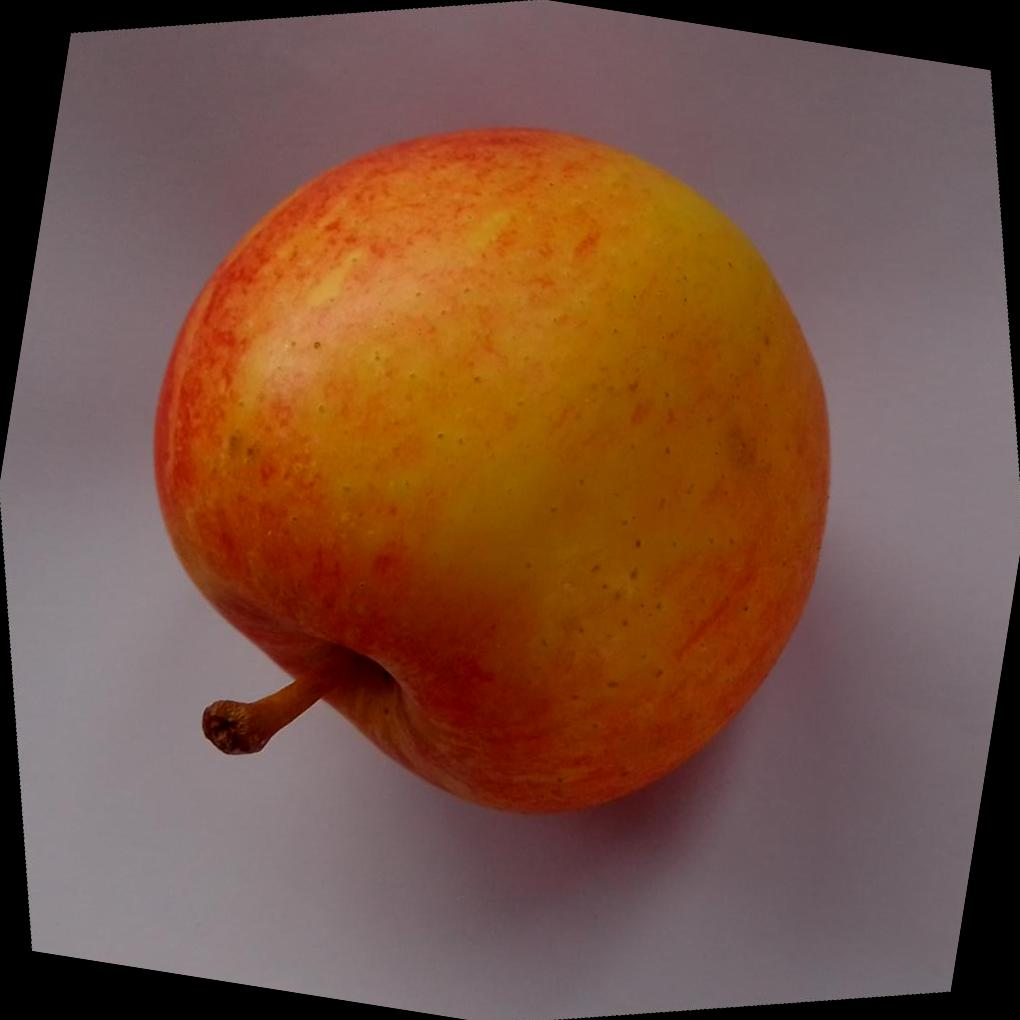FreshGuava: (149, 123, 830, 816)
